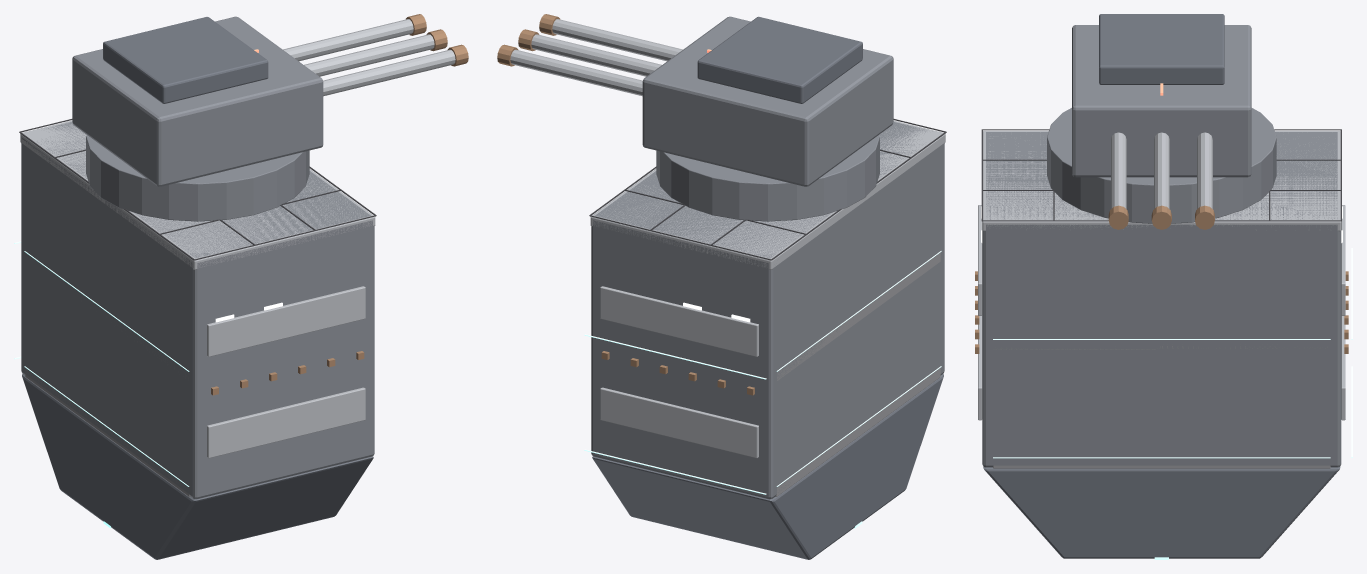
The model's file is ship_turret_5x3.glb.
3 views of the same model, side by side, from view 1: azimuth 30°, elevation 25°; view 2: azimuth 150°, elevation 25°; view 3: azimuth 270°, elevation 25° (orthographic). The views are drawn at different scales.
Visible parts, largest first — view 1: ext_hull, ext_turret, ext_hull_belly, ext_armor_plates, ext_barbette, ext_deck_top, ext_turret_top, ext_gun-60, ext_gun0, ext_gun60, ext_deck_grid, int_deck_lower; view 2: ext_hull, ext_turret, ext_hull_belly, ext_armor_plates, ext_barbette, ext_turret_top, ext_deck_top, ext_gun60, ext_gun0, ext_gun-60, int_deck_lower, int_deck_upper (+3 smaller); view 3: ext_hull, ext_hull_belly, ext_turret, ext_deck_top, ext_barbette, ext_turret_top, ext_armor_plates, ext_deck_grid, int_deck_lower, ext_gun60, ext_gun-60, ext_gun0 (+3 smaller).
Boxes of the visible parts, bbox=[...] form: ext_hull: bbox=[21, 122, 374, 499]; ext_turret: bbox=[72, 16, 323, 186]; ext_hull_belly: bbox=[22, 374, 373, 559]; ext_armor_plates: bbox=[207, 286, 365, 458]; ext_barbette: bbox=[86, 135, 309, 221]; ext_deck_top: bbox=[20, 120, 375, 269]; ext_turret_top: bbox=[103, 17, 268, 103]; ext_gun-60: bbox=[323, 49, 455, 96]; ext_gun0: bbox=[304, 34, 434, 76]; ext_gun60: bbox=[283, 19, 413, 61]; ext_deck_grid: bbox=[19, 119, 376, 260]; int_deck_lower: bbox=[25, 369, 190, 496]; ext_hull: bbox=[591, 122, 944, 499]; ext_turret: bbox=[642, 16, 893, 186]; ext_hull_belly: bbox=[592, 374, 943, 559]; ext_armor_plates: bbox=[600, 286, 758, 458]; ext_barbette: bbox=[656, 135, 879, 221]; ext_turret_top: bbox=[697, 16, 862, 103]; ext_deck_top: bbox=[590, 120, 945, 269]; ext_gun60: bbox=[510, 49, 642, 96]; ext_gun0: bbox=[531, 34, 661, 76]; ext_gun-60: bbox=[552, 19, 682, 61]; int_deck_lower: bbox=[775, 368, 940, 496]; int_deck_upper: bbox=[777, 253, 940, 380]; ext_hull: bbox=[982, 132, 1341, 467]; ext_hull_belly: bbox=[983, 467, 1340, 558]; ext_turret: bbox=[1072, 25, 1251, 177]; ext_deck_top: bbox=[982, 131, 1341, 231]; ext_barbette: bbox=[1047, 108, 1276, 223]; ext_turret_top: bbox=[1099, 14, 1224, 84]; ext_armor_plates: bbox=[978, 205, 1345, 420]; ext_deck_grid: bbox=[981, 129, 1341, 221]; int_deck_lower: bbox=[993, 465, 1330, 468]; ext_gun60: bbox=[1197, 132, 1212, 208]; ext_gun-60: bbox=[1111, 132, 1126, 208]; ext_gun0: bbox=[1154, 132, 1169, 208].
Size of the model in its own units: 5.65 by 7.2 by 5.26.
